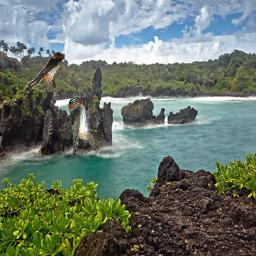Swallow: (68, 97, 103, 160), (26, 52, 65, 88)
